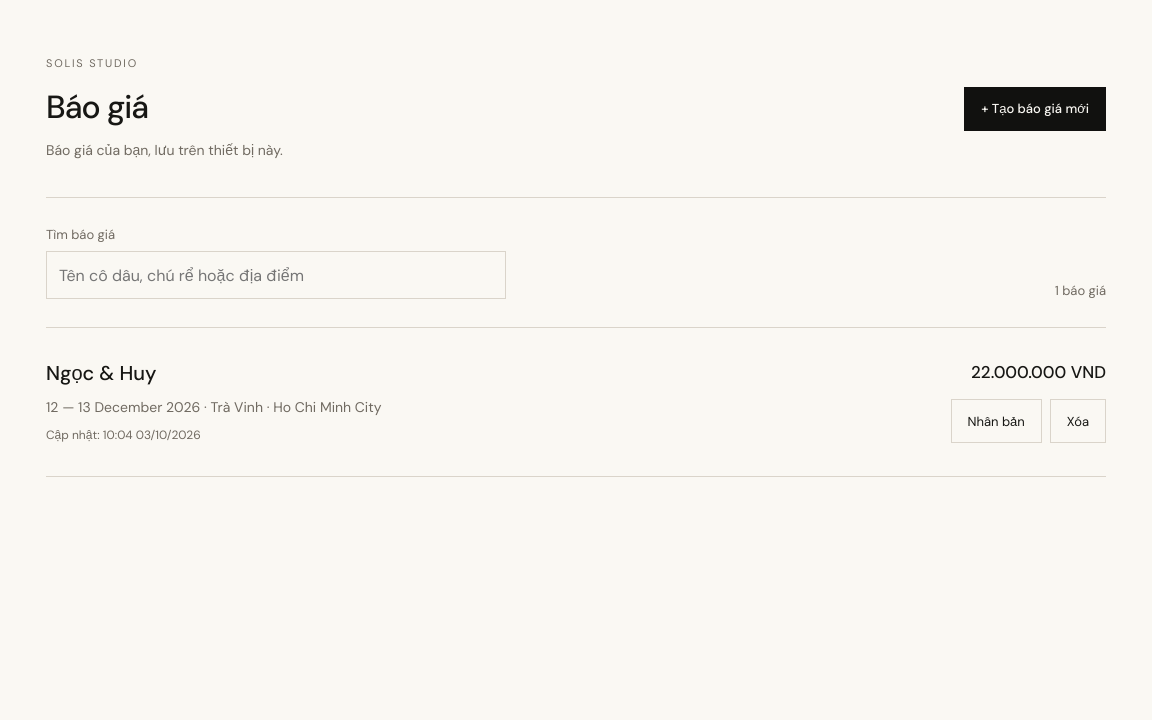
it: local library workflow › does not claim data was preserved when deletion succeeds but refreshing the library fails
What coordinates should you click on to do the following:
click the button with aria-label "Xóa Ngọc & Huy"
I would click on:
 (1078, 421)
Its box is [1050,399,1106,443].
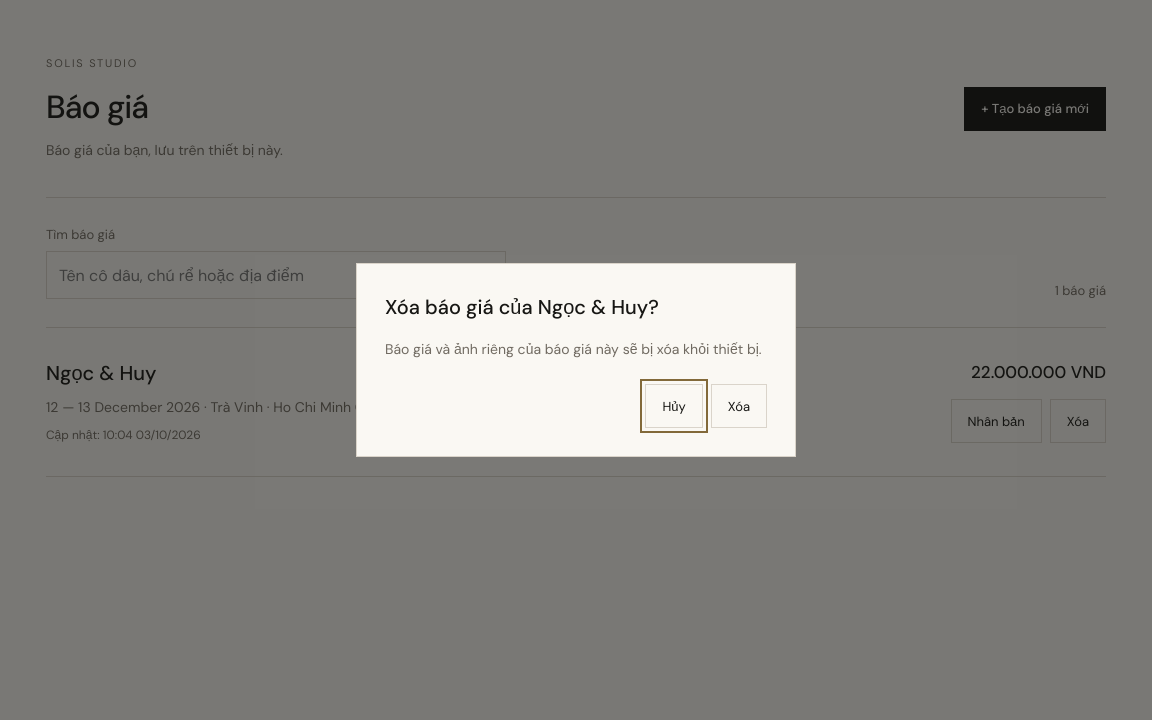
What coordinates should you click on to do the following:
click the button "Xóa"
I would click on:
 (739, 406)
Its box is [711,384,767,428].
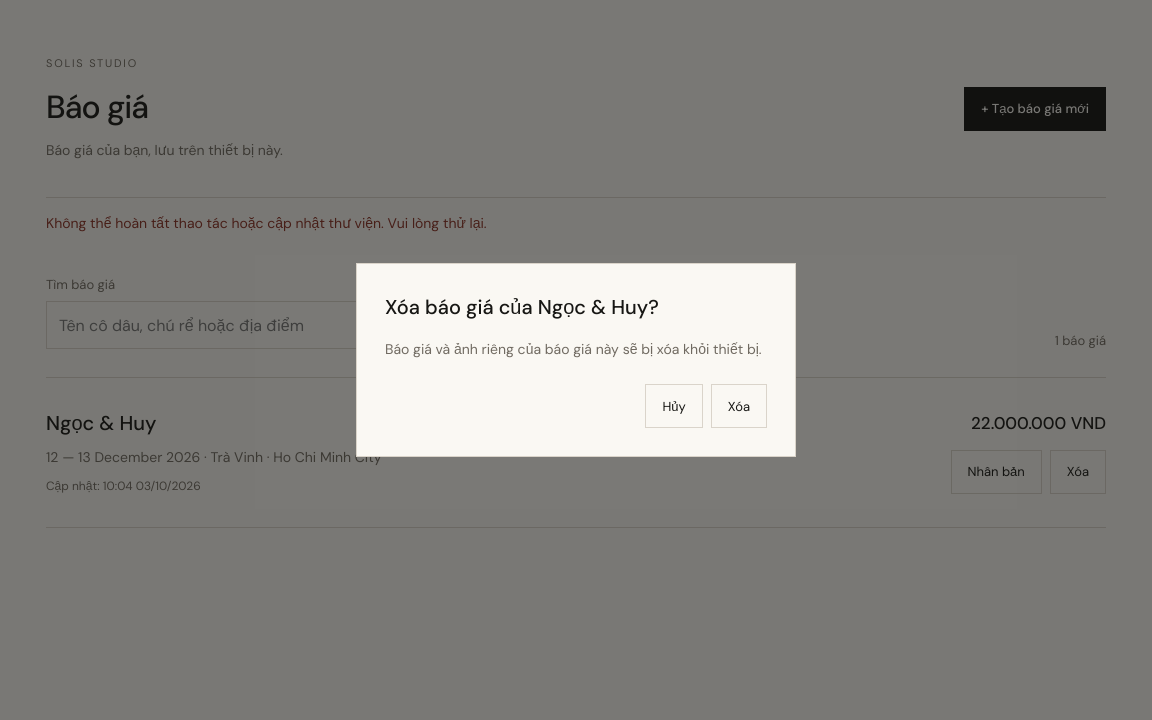
Check: the message does not show "Dữ liệu hiện có không bị xóa", box [46,214,487,232]
Check: the message shows "Vui lòng thử lại", box [46,214,487,232]
